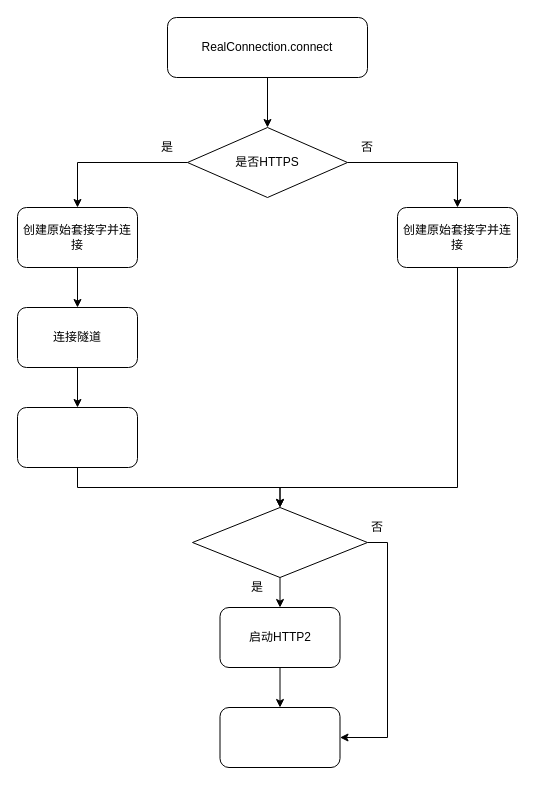
Some shapes in this 535 by 785 pixel diagram are drawn without their labels. The shapes that lost their labels are listed below. From the top down, each one's box as (x1, y1, x2, y2) in pixels, then its label:
(16, 406, 138, 468): TLS握手
(192, 506, 368, 578): 是否HTTP2
(219, 706, 340, 768): 结束
